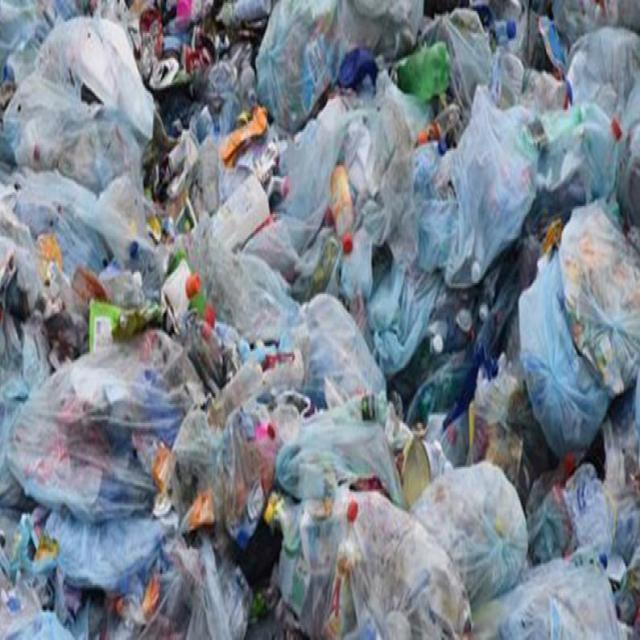heap: (6, 1, 640, 640)
plastic_bag: (15, 29, 155, 198), (19, 368, 171, 521), (412, 463, 533, 615), (249, 3, 398, 122), (566, 211, 632, 389)
